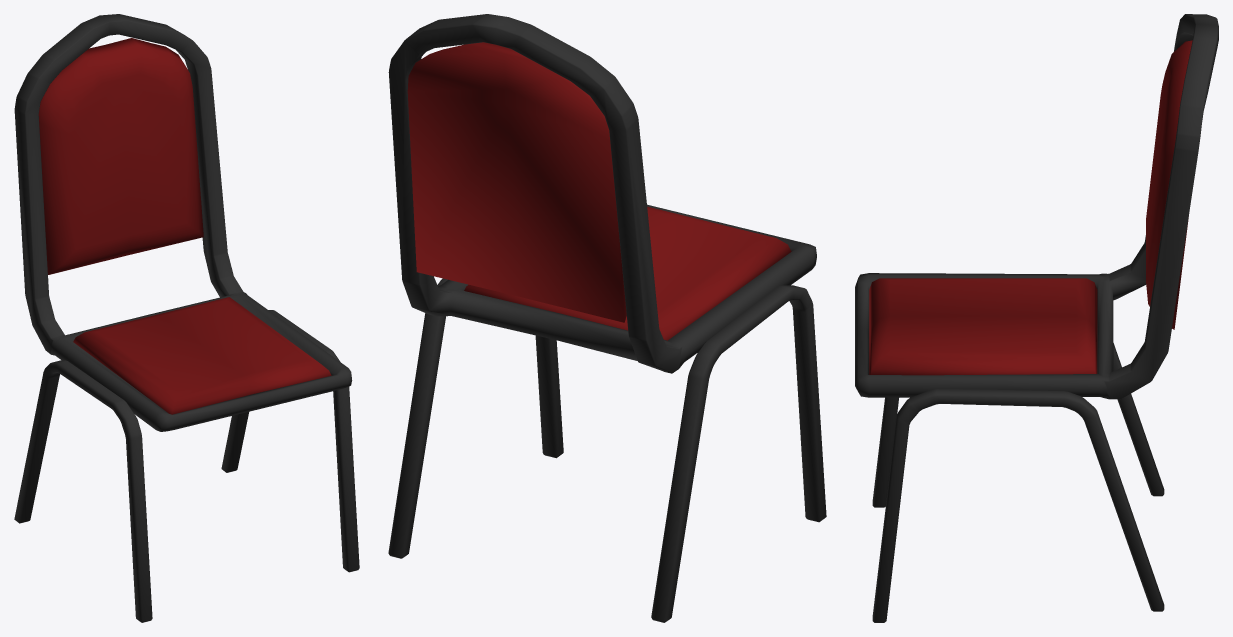
Rendered from Chair.fbx.
3 views of the same model, side by side, from view 1: azimuth 30°, elevation 25°; view 2: azimuth 150°, elevation 25°; view 3: azimuth 270°, elevation 25° (orthographic). The views are drawn at different scales.
Parts seen in each view (by area): view 1: Chair_2; view 2: Chair_2; view 3: Chair_2.
Boxes of the visible parts, <box> form: Chair_2: <box>14,14,359,622</box>; Chair_2: <box>388,14,826,622</box>; Chair_2: <box>855,14,1218,622</box>.
Size of the model in its own units: 167 by 343 by 210.
